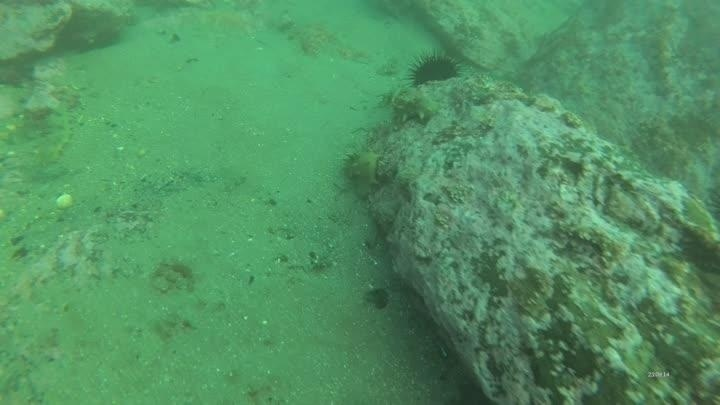echinus: (405, 49, 463, 88)
holothurian: (32, 106, 78, 169), (338, 143, 385, 203), (385, 82, 443, 126)
